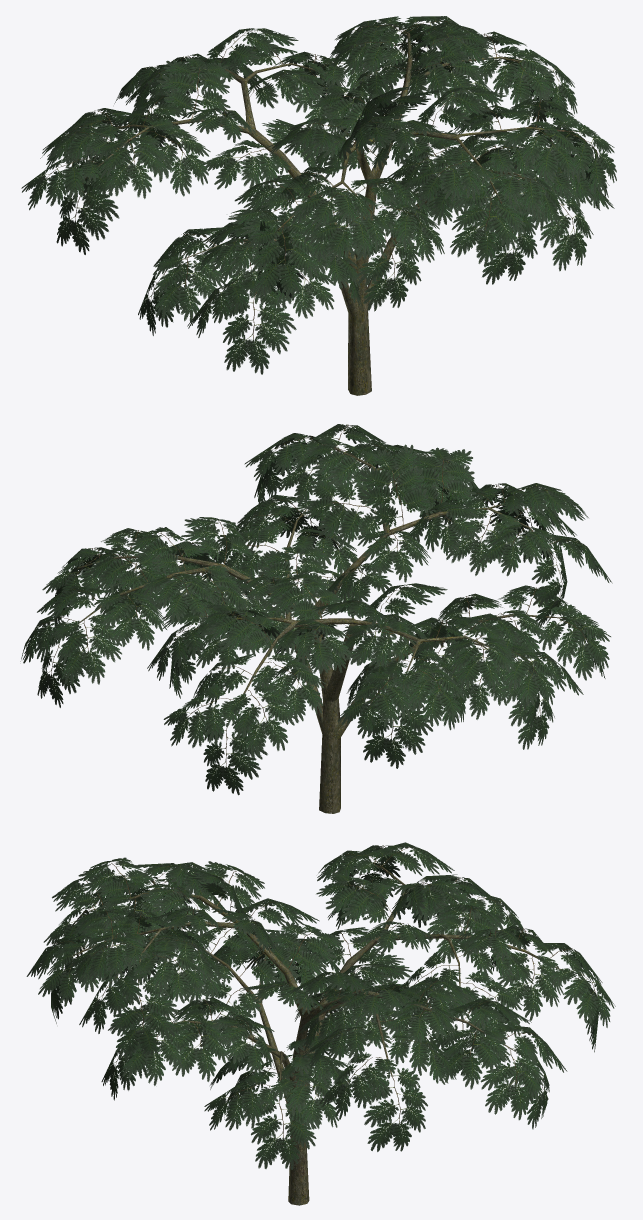
The model's file is Mimosa.fbx.
The picture shows the model from 3 angles, top to bottom: view 1: azimuth 30°, elevation 25°; view 2: azimuth 150°, elevation 25°; view 3: azimuth 270°, elevation 25°; orthographic projection. The views are drawn at different scales.
Parts seen in each view (by area): view 1: Mimosa; view 2: Mimosa; view 3: Mimosa.
Boxes of the visible parts, <box> form: Mimosa: <box>21,16,616,395</box>; Mimosa: <box>20,424,612,813</box>; Mimosa: <box>26,842,615,1205</box>.
Bounding box in the file's own units: 18.24 × 11.06 × 18.67.
